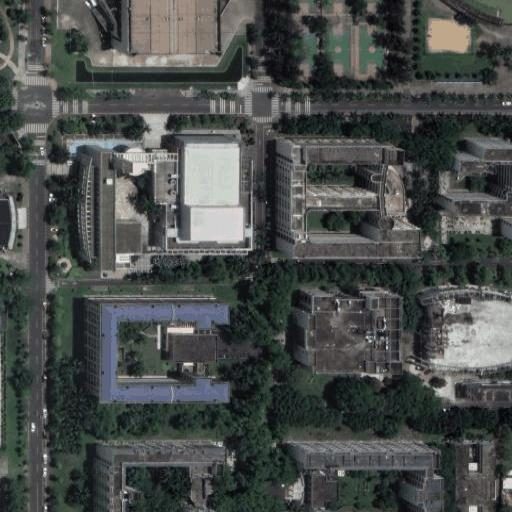building: (274, 137, 408, 250), (84, 300, 219, 402), (83, 152, 183, 273), (285, 441, 427, 512), (94, 436, 220, 512), (289, 287, 389, 366), (415, 284, 512, 364), (440, 143, 512, 248), (126, 0, 224, 52), (182, 144, 251, 204), (180, 204, 253, 254), (454, 442, 496, 512), (171, 335, 220, 363), (312, 467, 342, 510), (115, 222, 143, 256), (0, 191, 14, 246), (474, 389, 512, 402), (499, 477, 512, 489), (0, 316, 2, 330)
